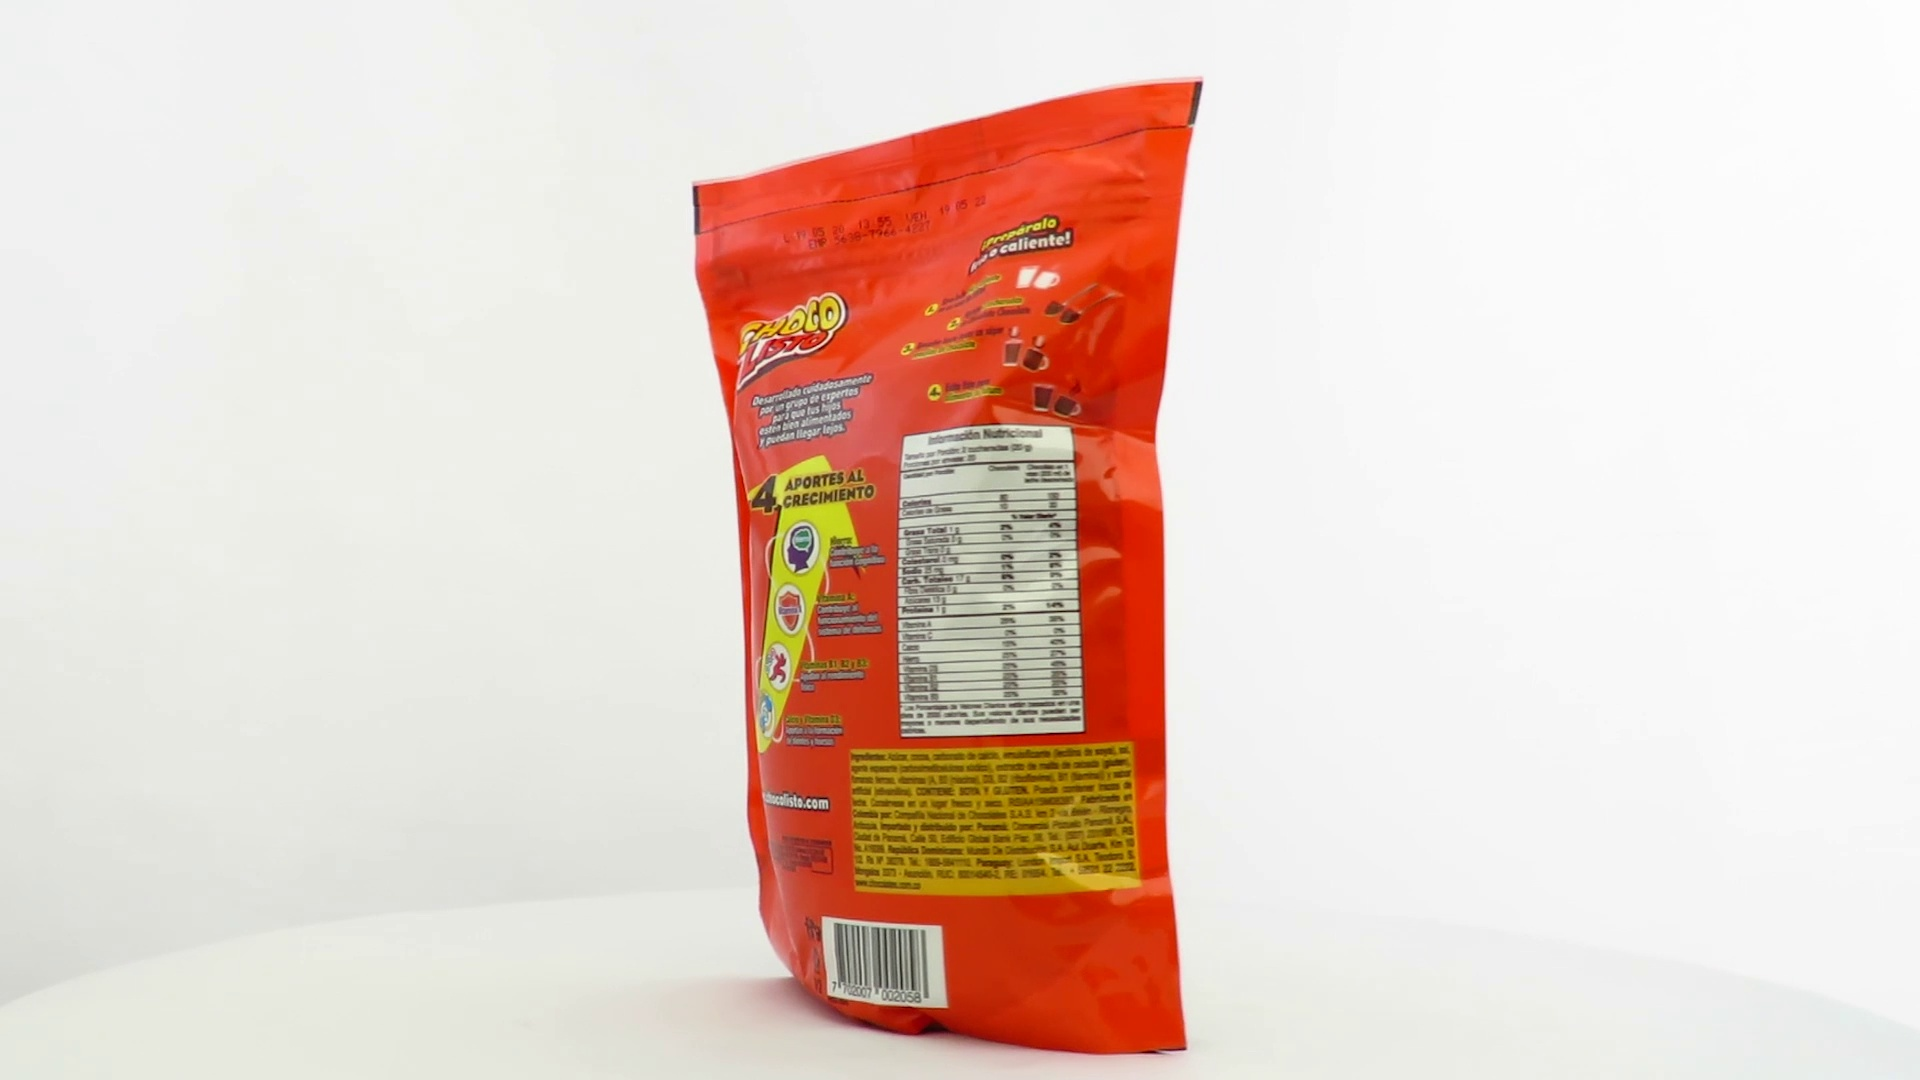COL0170103DYP40000: (687, 76, 1209, 1062)
